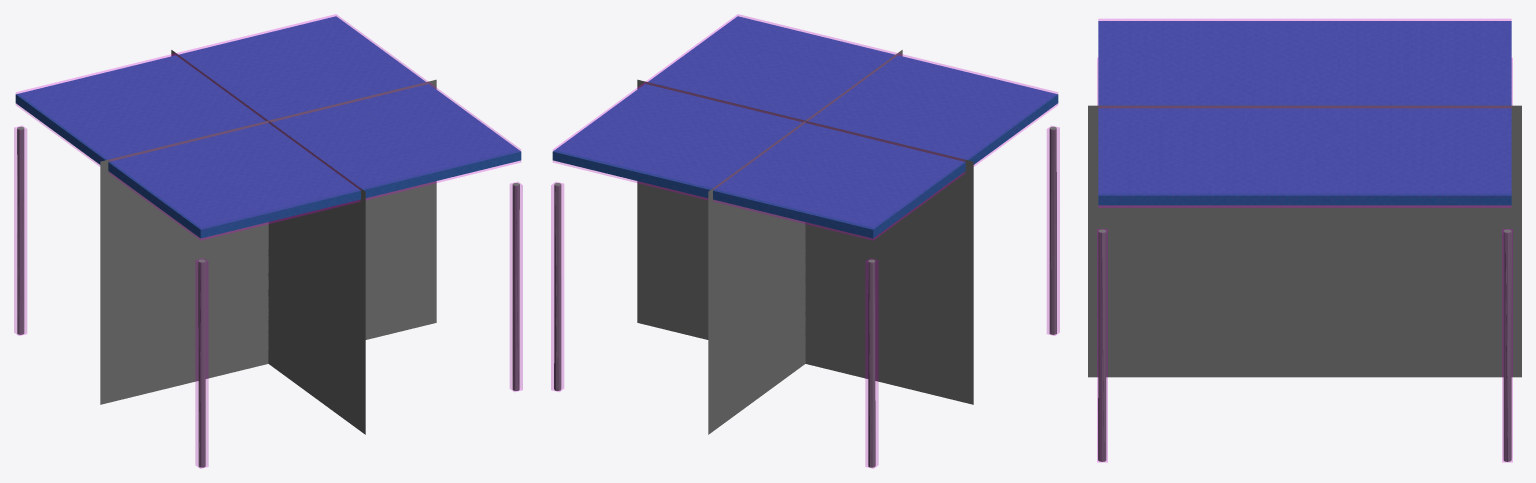
Rendered from tent_blue_3x3.dae.
3 renders of one model, left to right at view 1: azimuth 30°, elevation 25°; view 2: azimuth 150°, elevation 25°; view 3: azimuth 270°, elevation 25°, orthographic. The views are drawn at different scales.
Visible parts, largest first — view 1: tent_blue_3x3_a800, tent_blue_3x3_a50, tent_blue_3x3_a200, Colmesh_roof-1, Colmesh_pole0-1, Colmesh_pole1-1, Colmesh_pole3-1; view 2: tent_blue_3x3_a800, tent_blue_3x3_a50, Colmesh_roof-1, tent_blue_3x3_a200, Colmesh_pole3-1, Colmesh_pole2-1, Colmesh_pole0-1; view 3: tent_blue_3x3_a50, tent_blue_3x3_a800, Colmesh_roof-1, tent_blue_3x3_a200, Colmesh_pole1-1, Colmesh_pole2-1.
Boxes of the visible parts, box(x1,y1,x2,y2) form: tent_blue_3x3_a800: box(15, 16, 521, 467); tent_blue_3x3_a50: box(100, 50, 436, 434); tent_blue_3x3_a200: box(15, 16, 520, 467); Colmesh_roof-1: box(16, 14, 520, 240); Colmesh_pole0-1: box(195, 258, 208, 468); Colmesh_pole1-1: box(510, 182, 522, 391); Colmesh_pole3-1: box(14, 126, 26, 335); tent_blue_3x3_a800: box(552, 16, 1058, 467); tent_blue_3x3_a50: box(637, 50, 973, 434); Colmesh_roof-1: box(553, 14, 1057, 240); tent_blue_3x3_a200: box(553, 16, 1057, 467); Colmesh_pole3-1: box(865, 258, 878, 468); Colmesh_pole2-1: box(551, 182, 563, 391); Colmesh_pole0-1: box(1047, 126, 1059, 335); tent_blue_3x3_a50: box(1088, 105, 1521, 377); tent_blue_3x3_a800: box(1098, 21, 1511, 461); Colmesh_roof-1: box(1098, 19, 1511, 207); tent_blue_3x3_a200: box(1098, 21, 1511, 461); Colmesh_pole1-1: box(1097, 229, 1107, 462); Colmesh_pole2-1: box(1502, 229, 1512, 462).
Size of the model in its own units: 3.21 by 3.21 by 2.22.
3 materials, 1 textured.
